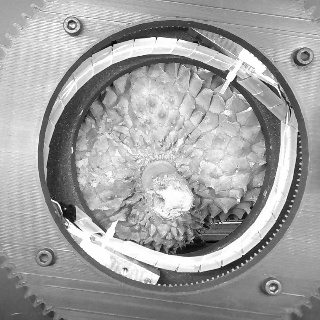base: (135, 152, 178, 205)
end: (153, 184, 194, 217)
